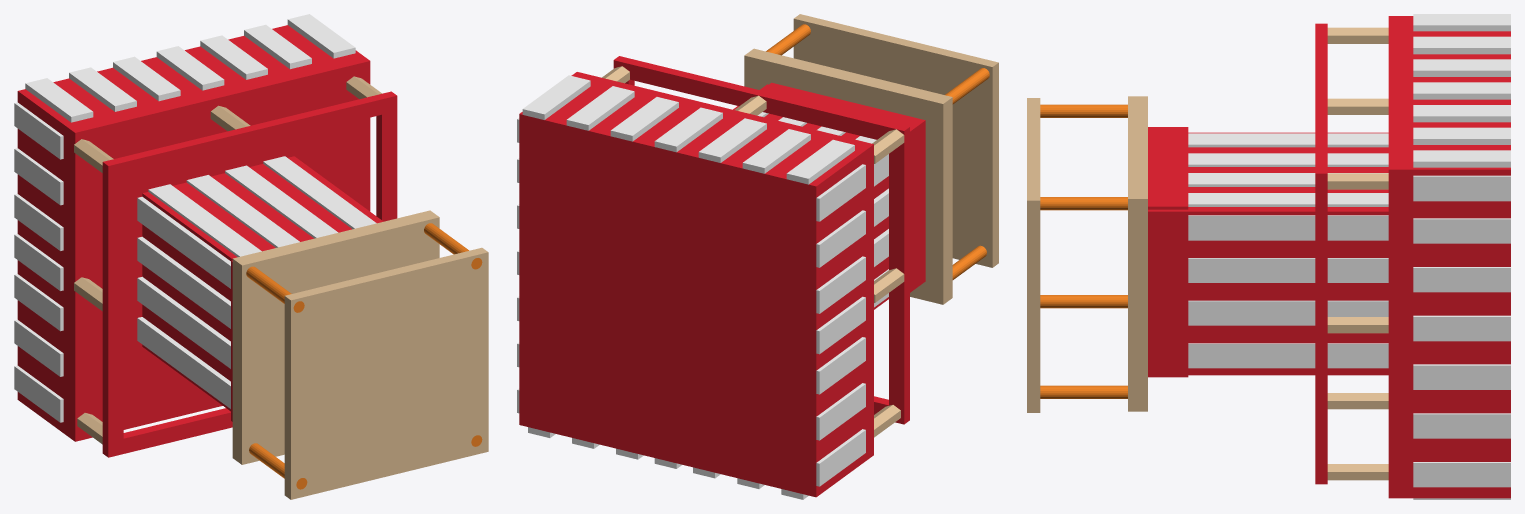
The model's file is Yagura.obj.
The picture shows the model from 3 angles, left to right: view 1: azimuth 30°, elevation 25°; view 2: azimuth 150°, elevation 25°; view 3: azimuth 270°, elevation 25°; orthographic projection. The views are drawn at different scales.
Parts seen in each view (by area): view 1: group_0_15277357, group_0_14860437, group_0_16448250, group_0_16089887; view 2: group_0_15277357, group_0_14860437, group_0_16448250, group_0_16089887; view 3: group_0_15277357, group_0_16448250, group_0_14860437, group_0_16089887.
Part boxes in pixels (left/top/right/bottom): group_0_15277357: left=17, top=25, right=397, bottom=457; group_0_14860437: left=74, top=76, right=488, bottom=499; group_0_16448250: left=14, top=14, right=376, bottom=422; group_0_16089887: left=246, top=223, right=482, bottom=489; group_0_15277357: left=519, top=56, right=925, bottom=497; group_0_14860437: left=602, top=14, right=998, bottom=437; group_0_16448250: left=517, top=75, right=888, bottom=499; group_0_16089887: left=766, top=24, right=989, bottom=279; group_0_15277357: left=1148, top=16, right=1510, bottom=498; group_0_16448250: left=1188, top=14, right=1510, bottom=499; group_0_14860437: left=1027, top=27, right=1388, bottom=480; group_0_16089887: left=1040, top=104, right=1127, bottom=398.
Size of the model in its own units: 55 by 56 by 72.
